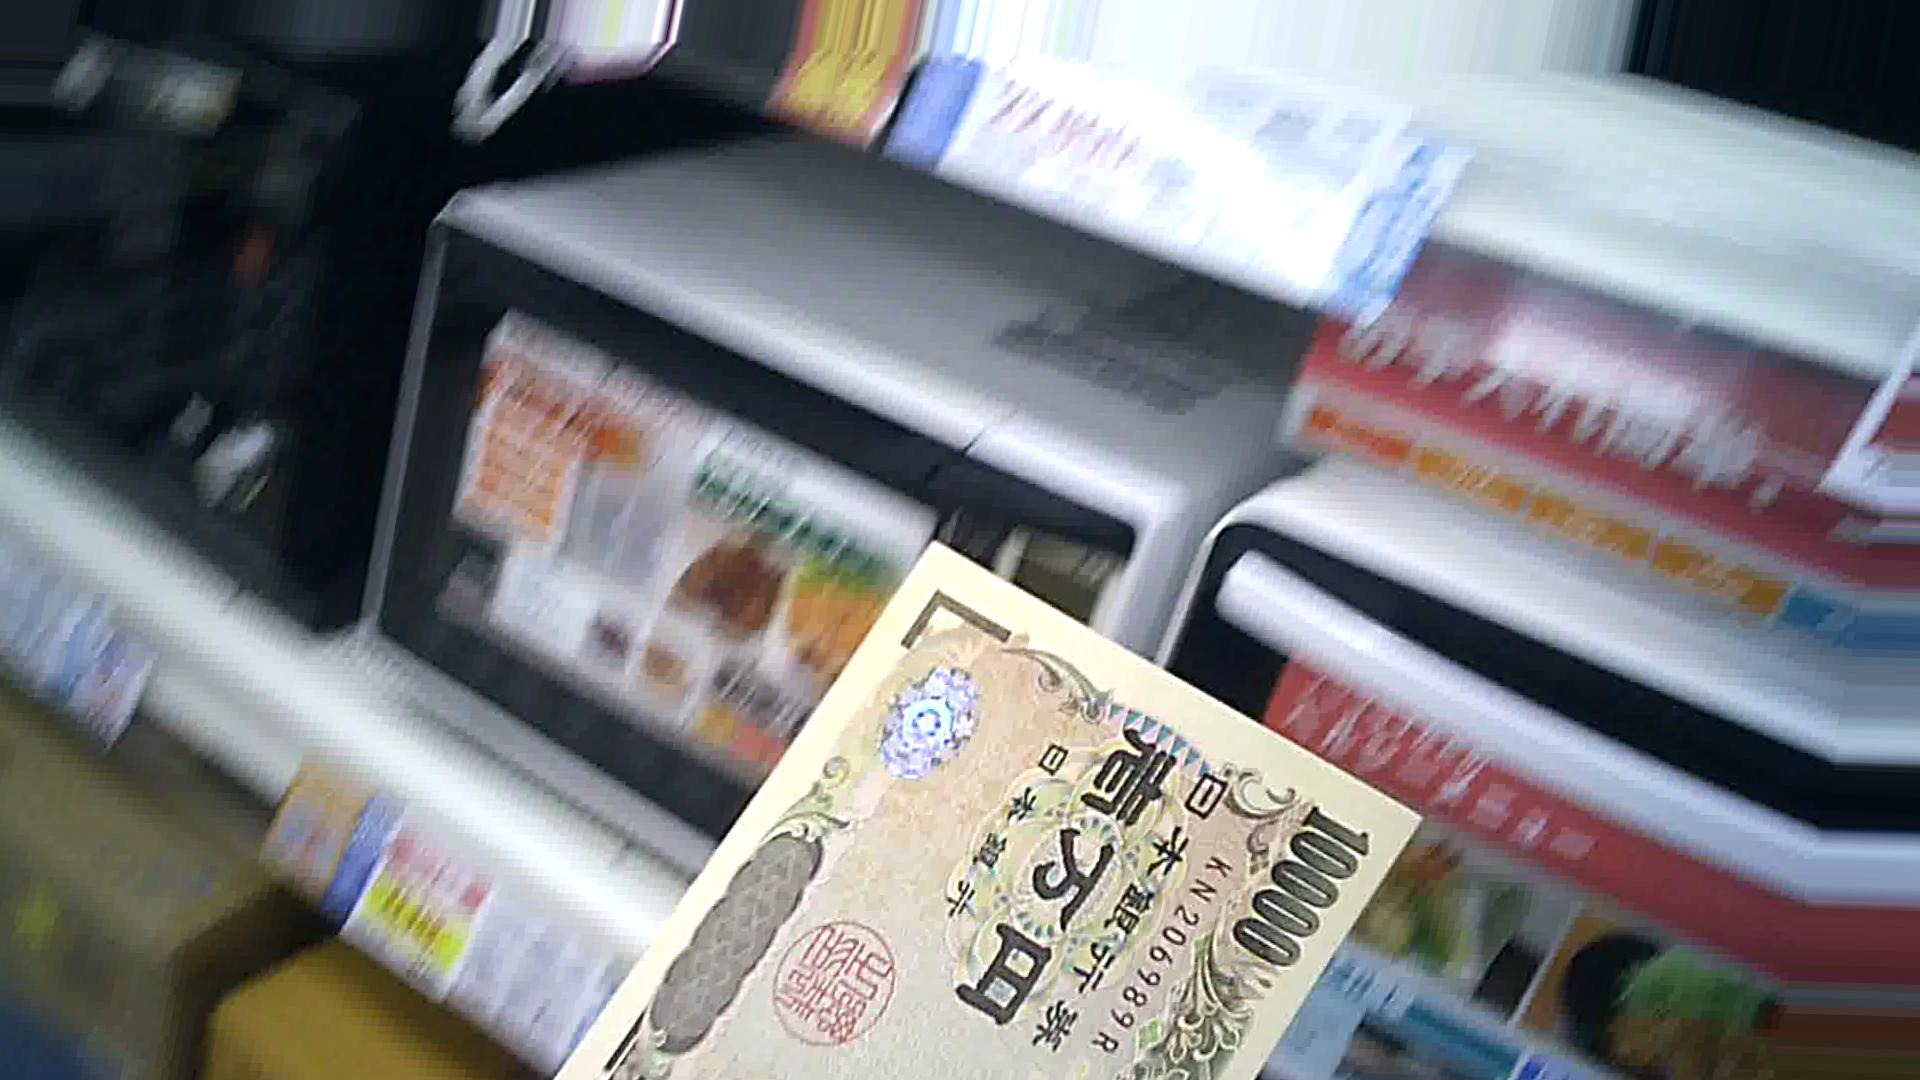10,000 Yen: (533, 553, 1407, 1079)
